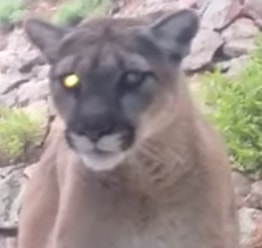Mountain Lion: (21, 12, 240, 246)
